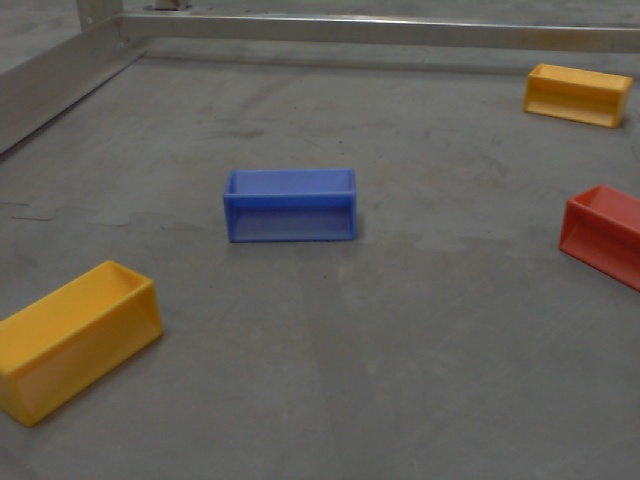BlueSample: (219, 165, 364, 249)
RedSample: (551, 176, 640, 299)
YellowSample: (1, 255, 164, 429), (516, 60, 634, 132)
